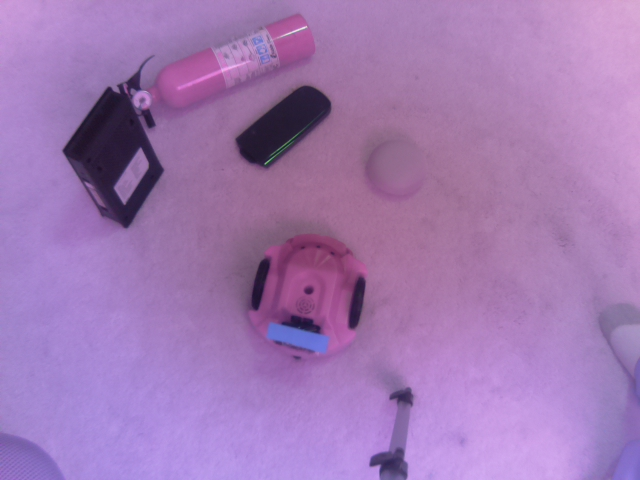board: (263, 313, 332, 361)
chassis: (239, 230, 370, 361)
